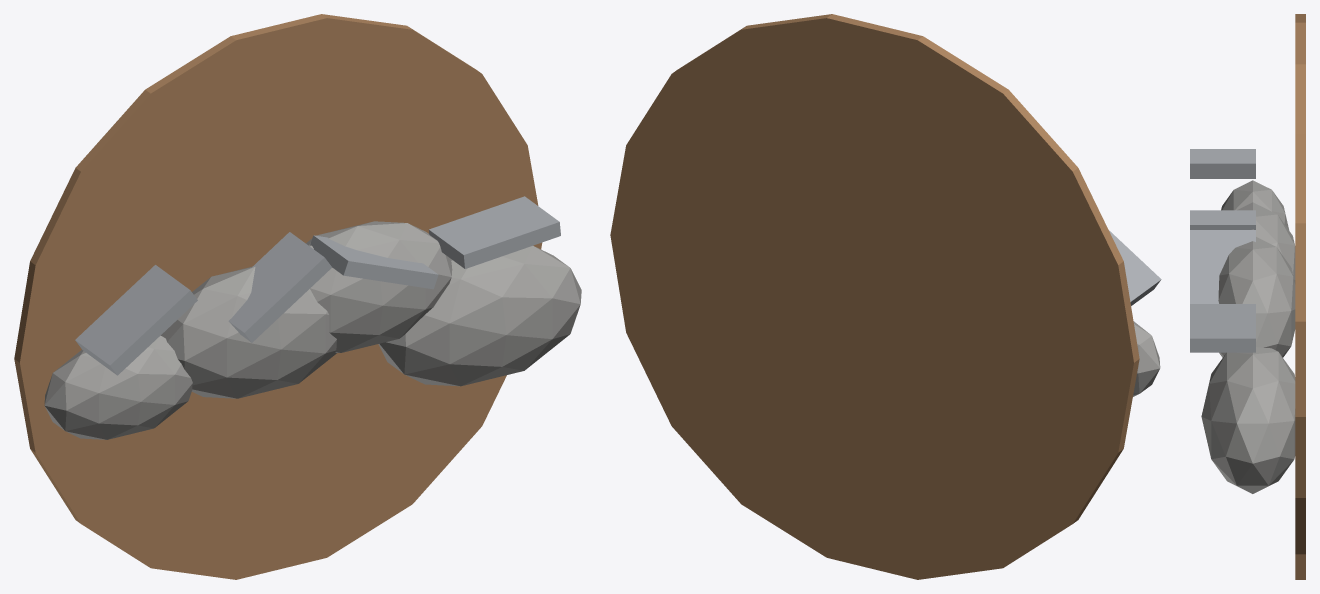
File: 02_display_prop_cluster.glb
3 renders of one model, left to right at view 1: azimuth 30°, elevation 25°; view 2: azimuth 150°, elevation 25°; view 3: azimuth 270°, elevation 25°, orthographic. The views are drawn at different scales.
Visible parts, largest first — view 1: scatter_base, scrap_rock_3, scrap_rock_1, scrap_rock_2, scrap_rock_0, scrap_plate_0, scrap_plate_3, scrap_plate_1, scrap_plate_2; view 2: scatter_base, scrap_plate_0, scrap_rock_0; view 3: scrap_rock_3, scatter_base, scrap_rock_2, scrap_plate_3, scrap_plate_2, scrap_plate_0, scrap_rock_1, scrap_plate_1, scrap_rock_0.
Part boxes in pixels (x1,y1,x2,y2): scatter_base: [14, 14, 542, 579]; scrap_rock_3: [378, 246, 581, 386]; scrap_rock_1: [161, 266, 336, 398]; scrap_rock_2: [306, 221, 452, 352]; scrap_rock_0: [44, 335, 192, 439]; scrap_plate_0: [75, 265, 197, 375]; scrap_plate_3: [429, 196, 560, 268]; scrap_plate_1: [228, 232, 331, 342]; scrap_plate_2: [310, 235, 438, 289]; scatter_base: [610, 14, 1139, 579]; scrap_plate_0: [1109, 230, 1161, 305]; scrap_rock_0: [1133, 321, 1160, 396]; scrap_rock_3: [1201, 347, 1295, 493]; scatter_base: [1295, 14, 1305, 579]; scrap_rock_2: [1218, 237, 1295, 357]; scrap_plate_3: [1190, 304, 1255, 352]; scrap_plate_2: [1190, 230, 1255, 303]; scrap_plate_0: [1190, 149, 1255, 178]; scrap_rock_1: [1237, 202, 1295, 283]; scrap_plate_1: [1190, 210, 1255, 229]; scrap_rock_0: [1221, 180, 1289, 230].
Bounding box in the file's own units: 1.96 × 1.87 × 0.3875.
